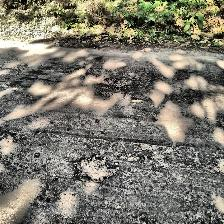pothole: (72, 154, 116, 182), (103, 76, 133, 90)
